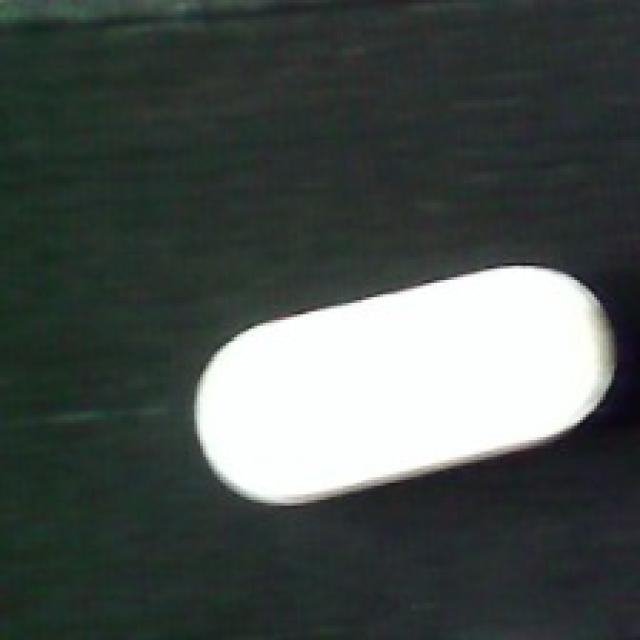no-defect: (188, 262, 623, 513)
